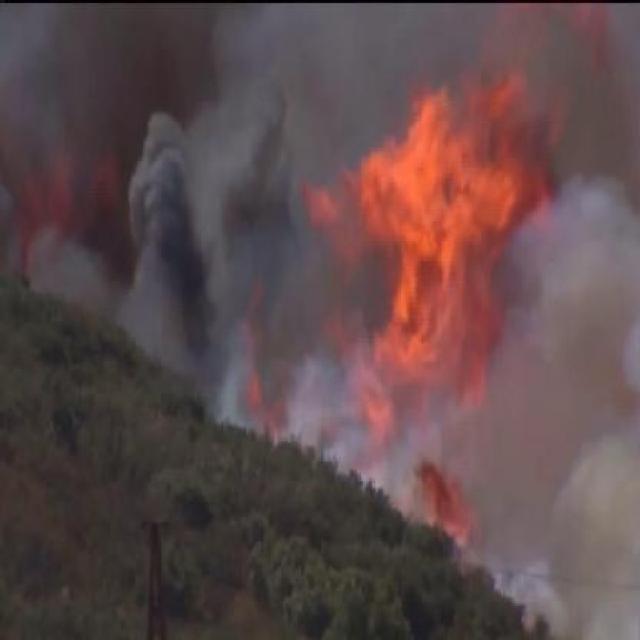Fire: (298, 80, 560, 440), (400, 444, 469, 546)
Smoke: (0, 5, 317, 386), (472, 181, 632, 640), (197, 344, 440, 506), (311, 2, 640, 121)
